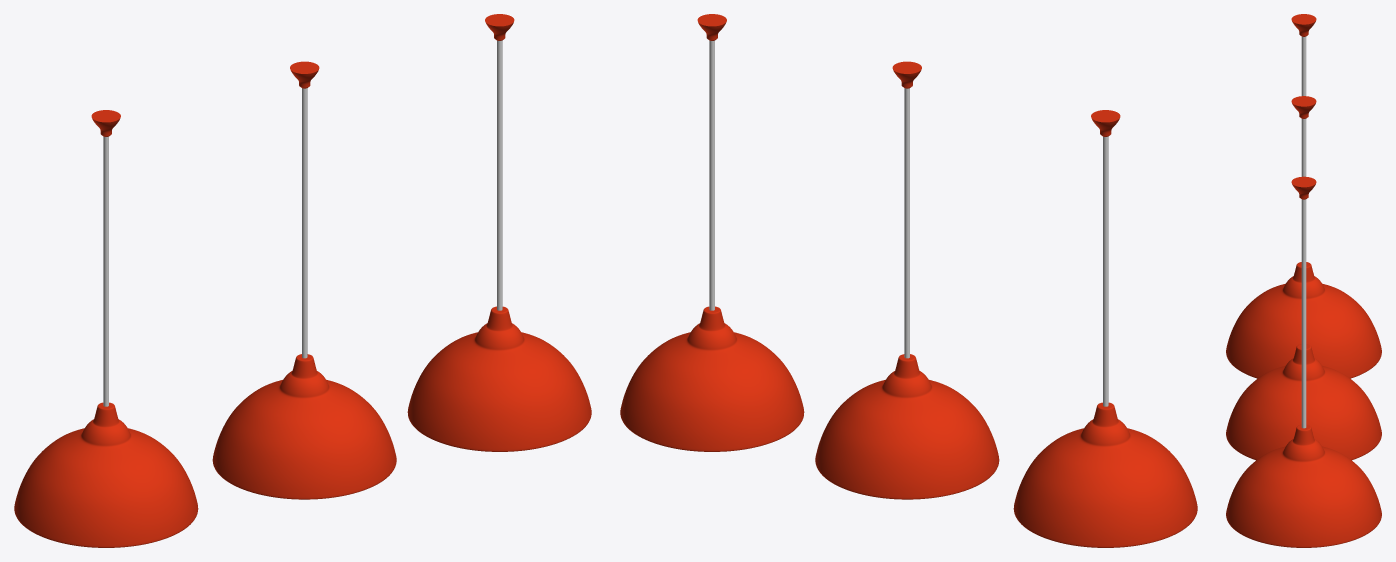
Rendered from keukenlamp.fbx.
3 renders of one model, left to right at view 1: azimuth 30°, elevation 25°; view 2: azimuth 150°, elevation 25°; view 3: azimuth 270°, elevation 25°, orthographic. The views are drawn at different scales.
Visible parts, largest first — view 1: Circle.001, Circle.002, Circle.003, Cylinder.002, Cylinder.003, Cylinder.005; view 2: Circle.001, Circle.002, Circle.003, Cylinder.002, Cylinder.003, Cylinder.005; view 3: Circle.002, Circle.003, Circle.001, Cylinder.003, Cylinder.004, Cylinder.006, Cylinder.001, Cylinder.005, Cylinder.002.
Part boxes in pixels (x1=…): Circle.001: x1=212, y1=354, x2=396, y2=499; Circle.002: x1=407, y1=306, x2=591, y2=451; Circle.003: x1=14, y1=402, x2=198, y2=547; Cylinder.002: x1=302, y1=88, x2=307, y2=358; Cylinder.003: x1=497, y1=40, x2=502, y2=310; Cylinder.005: x1=103, y1=136, x2=108, y2=406; Circle.001: x1=815, y1=354, x2=999, y2=499; Circle.002: x1=620, y1=306, x2=804, y2=451; Circle.003: x1=1013, y1=402, x2=1197, y2=547; Cylinder.002: x1=904, y1=88, x2=909, y2=358; Cylinder.003: x1=709, y1=40, x2=714, y2=310; Cylinder.005: x1=1103, y1=136, x2=1108, y2=406; Circle.002: x1=1226, y1=424, x2=1381, y2=547; Circle.003: x1=1226, y1=262, x2=1381, y2=378; Circle.001: x1=1226, y1=344, x2=1381, y2=460; Cylinder.003: x1=1301, y1=199, x2=1306, y2=428; Cylinder.004: x1=1291, y1=176, x2=1316, y2=199; Cylinder.006: x1=1291, y1=14, x2=1316, y2=36; Cylinder.001: x1=1291, y1=96, x2=1316, y2=118; Cylinder.005: x1=1301, y1=36, x2=1306, y2=95; Cylinder.002: x1=1301, y1=118, x2=1306, y2=176.
Bounding box in the file's own units: 1217 × 869 × 351.
